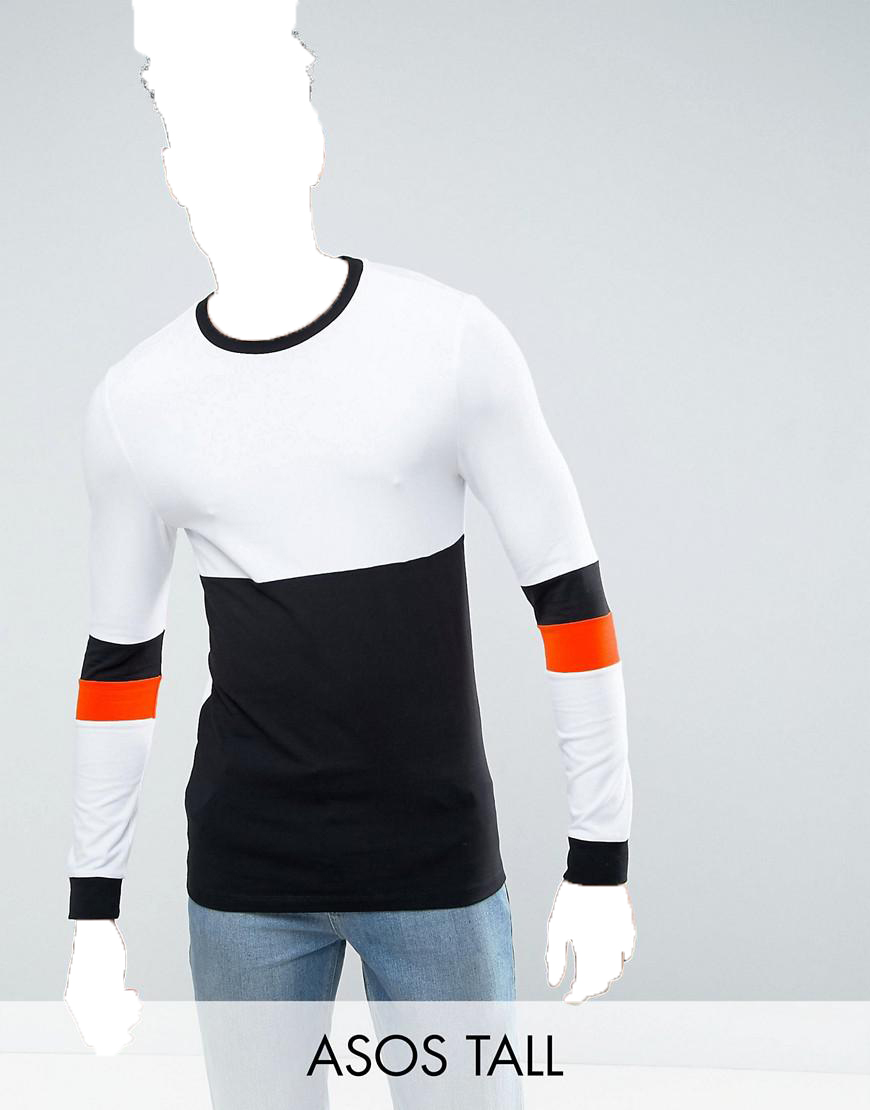teeshirt: (25, 256, 654, 944)
